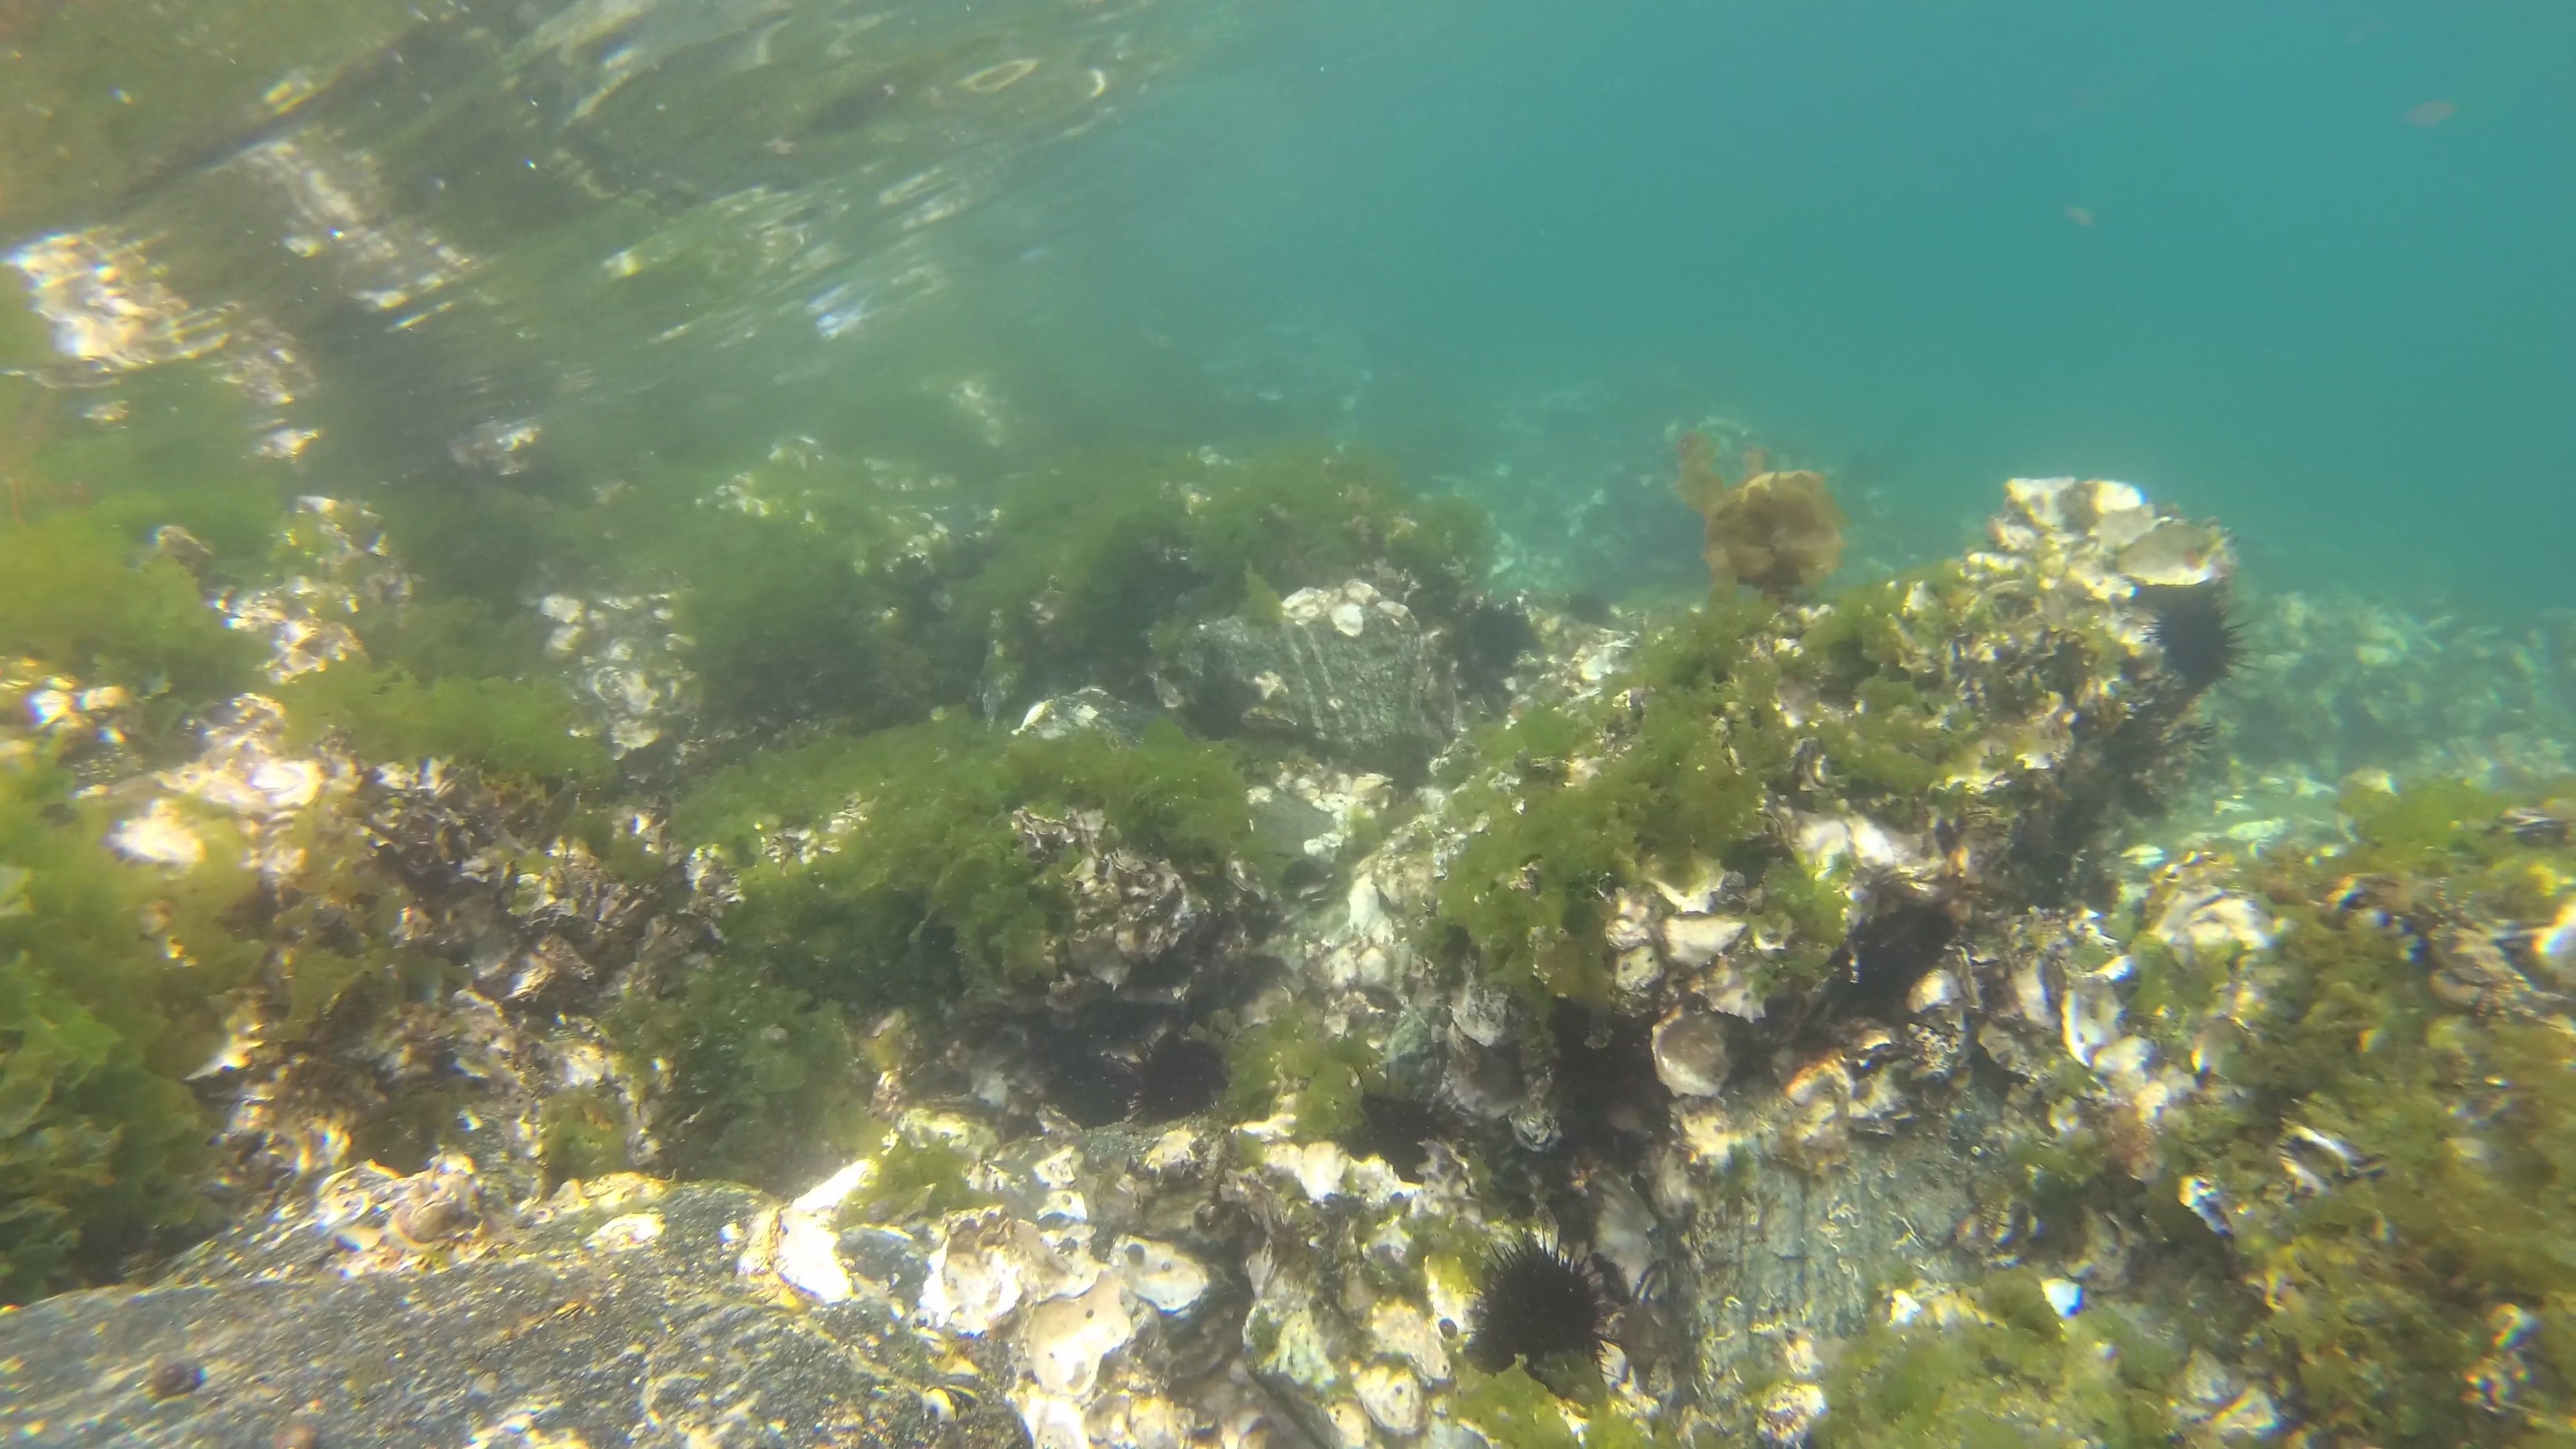echinus: (1472, 1235, 1610, 1385), (1334, 1063, 1449, 1191), (2155, 573, 2263, 694), (1118, 1030, 1231, 1129), (1461, 596, 1541, 688), (1560, 582, 1624, 648)
